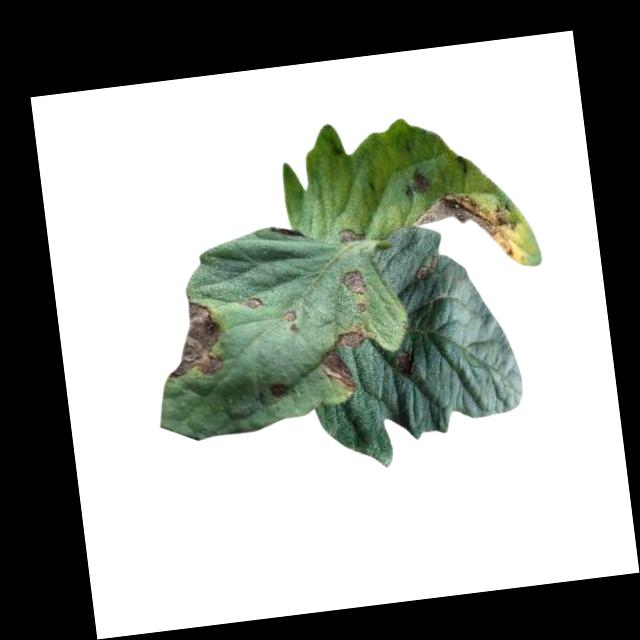Early_blight: (412, 186, 519, 268), (158, 298, 225, 379), (311, 321, 374, 395), (402, 166, 433, 198), (388, 347, 417, 377), (340, 266, 367, 296), (411, 255, 440, 281), (337, 226, 366, 246), (268, 375, 291, 399), (281, 306, 300, 333), (245, 293, 268, 311), (353, 300, 367, 312)
